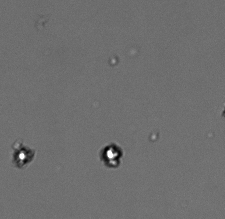Living Cell: (101, 143, 123, 167), (13, 147, 31, 166)
